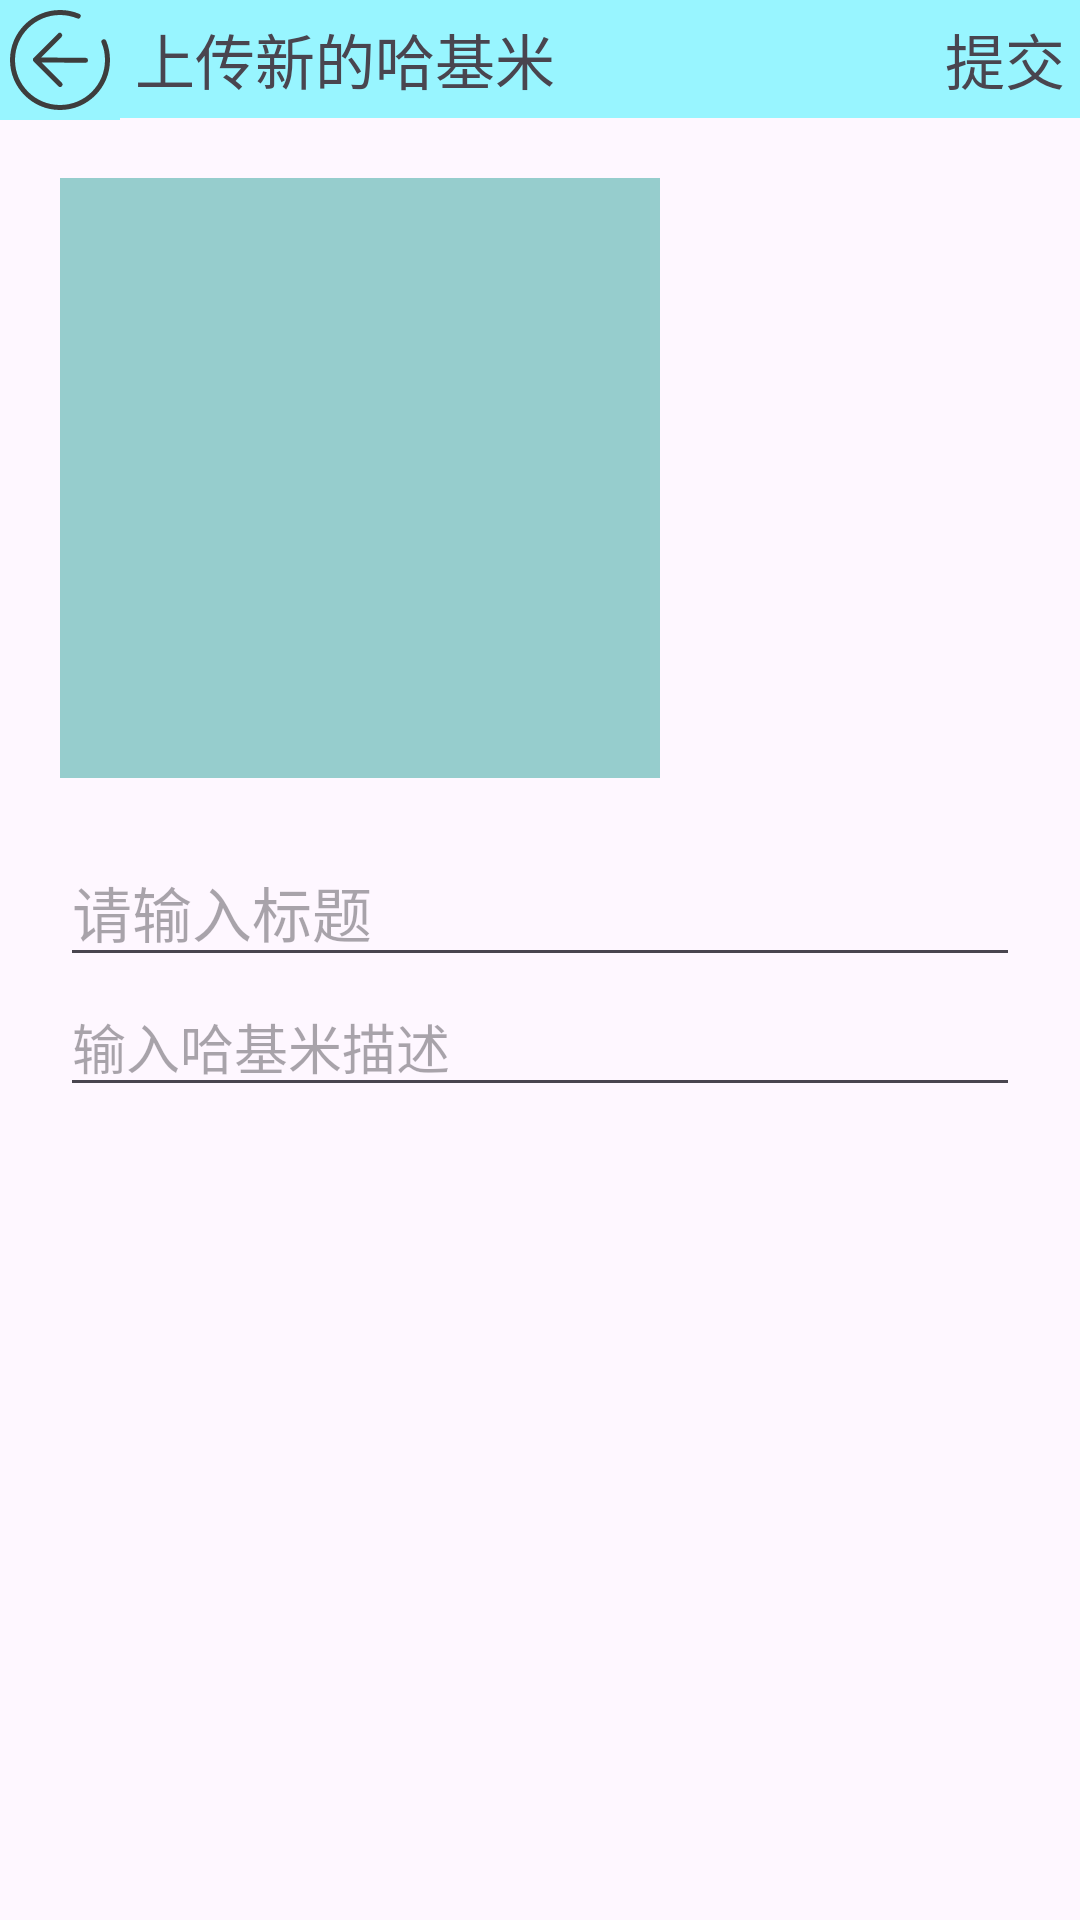

Screen size 1080*1920. Icon name, then its center in pixels as point (x, y):
back: point (60, 60)
